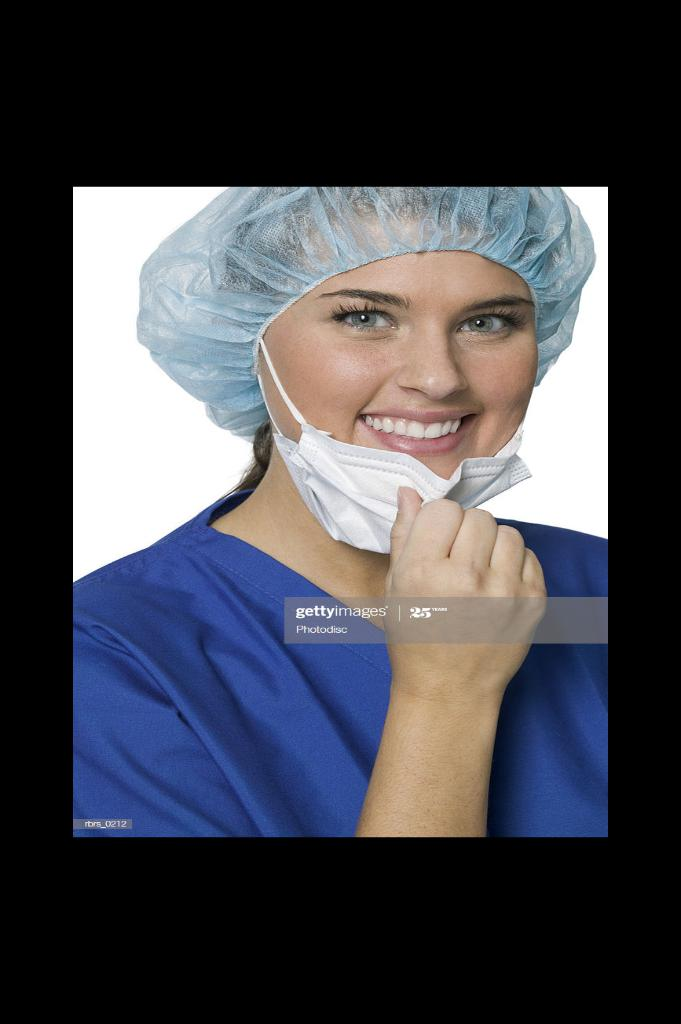mask_weared_incorrect: (318, 286, 522, 525)
